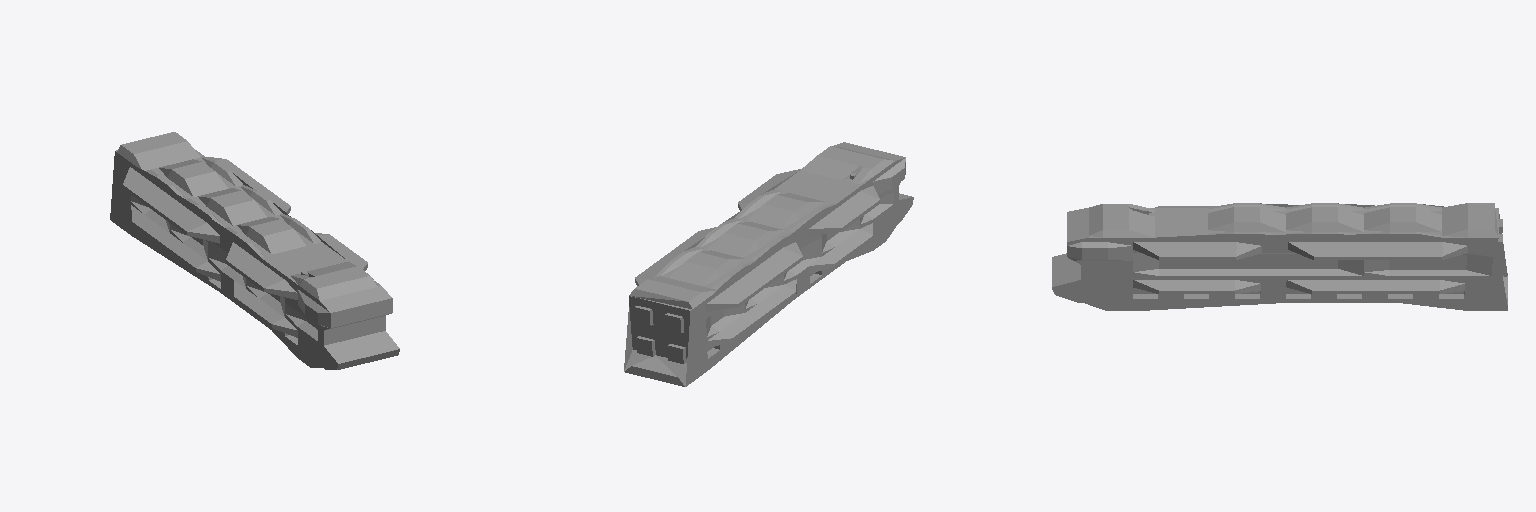
File: cargo.obj
3 views of the same model, side by side, from view 1: azimuth 30°, elevation 25°; view 2: azimuth 150°, elevation 25°; view 3: azimuth 270°, elevation 25° (orthographic).
Parts seen in each view (by area): view 1: Cube; view 2: Cube; view 3: Cube.
Part boxes in pixels (x1,y1,x2,y2): Cube: (110,132,399,369); Cube: (624,142,913,386); Cube: (1052,203,1507,310).
Size of the model in its own units: 40.37 by 30.27 by 154.